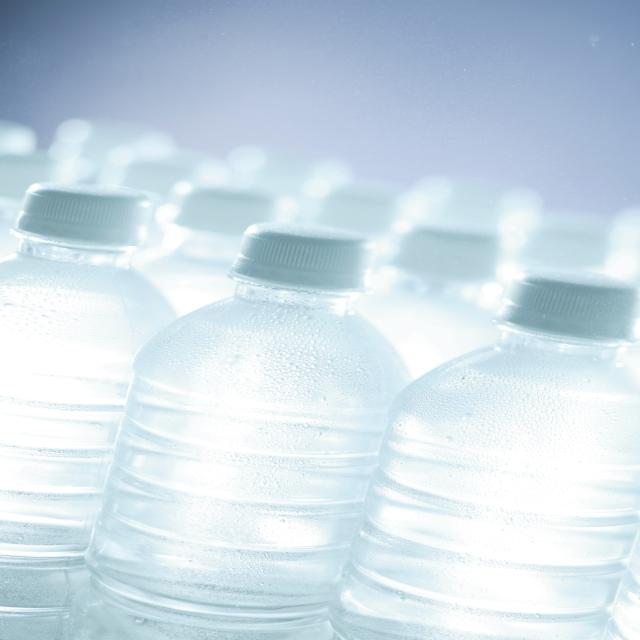plastic_bottle: (64, 220, 412, 638)
